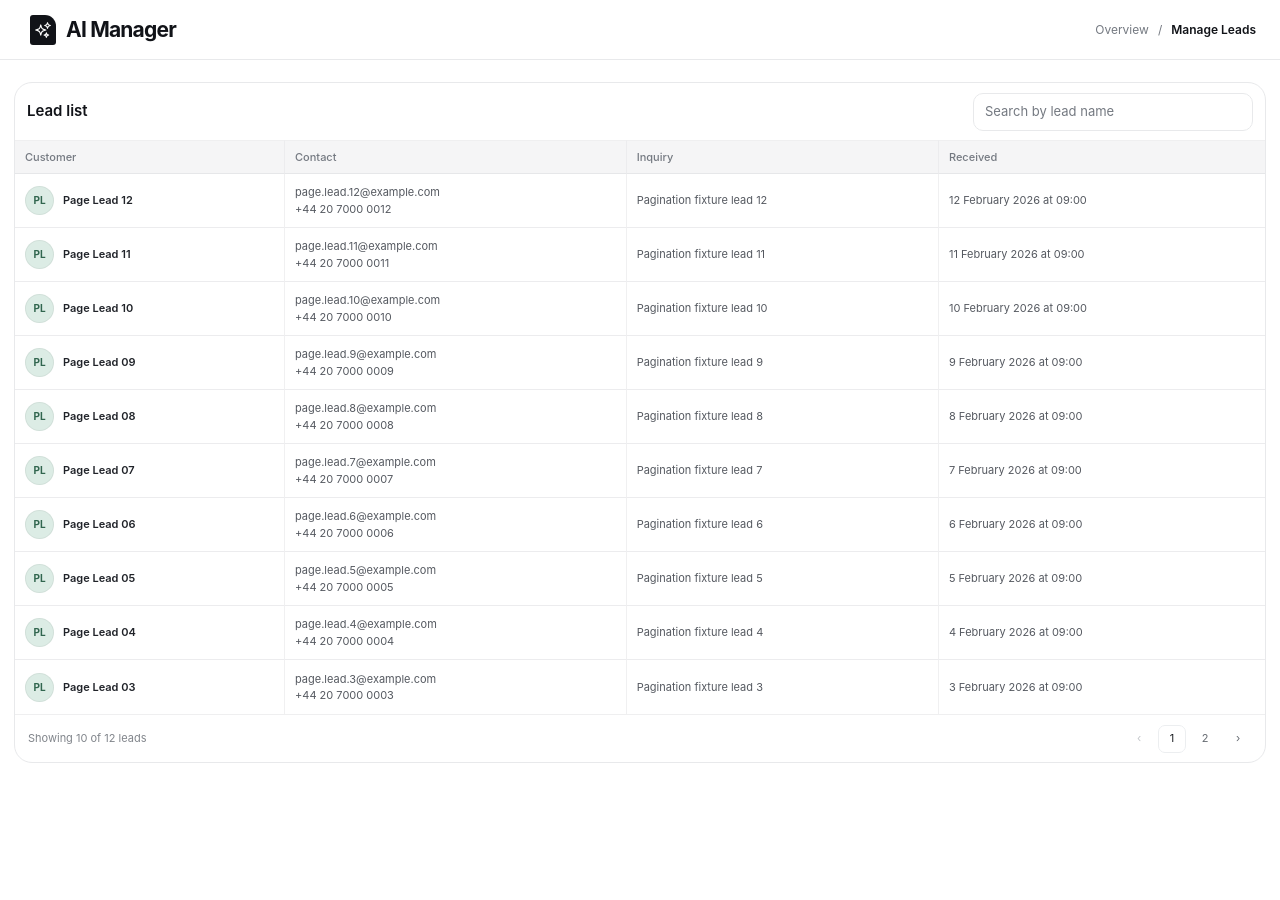
Test case: lead browse and read workflow › paginates the lead table
Expected: the text "Showing 10 of 12 leads" is shown, [28, 730, 146, 747]
Expected: the link "PL Page Lead 12" is shown, [25, 186, 133, 215]
Click the button "2": point(1205, 738) [1191, 724, 1219, 752]
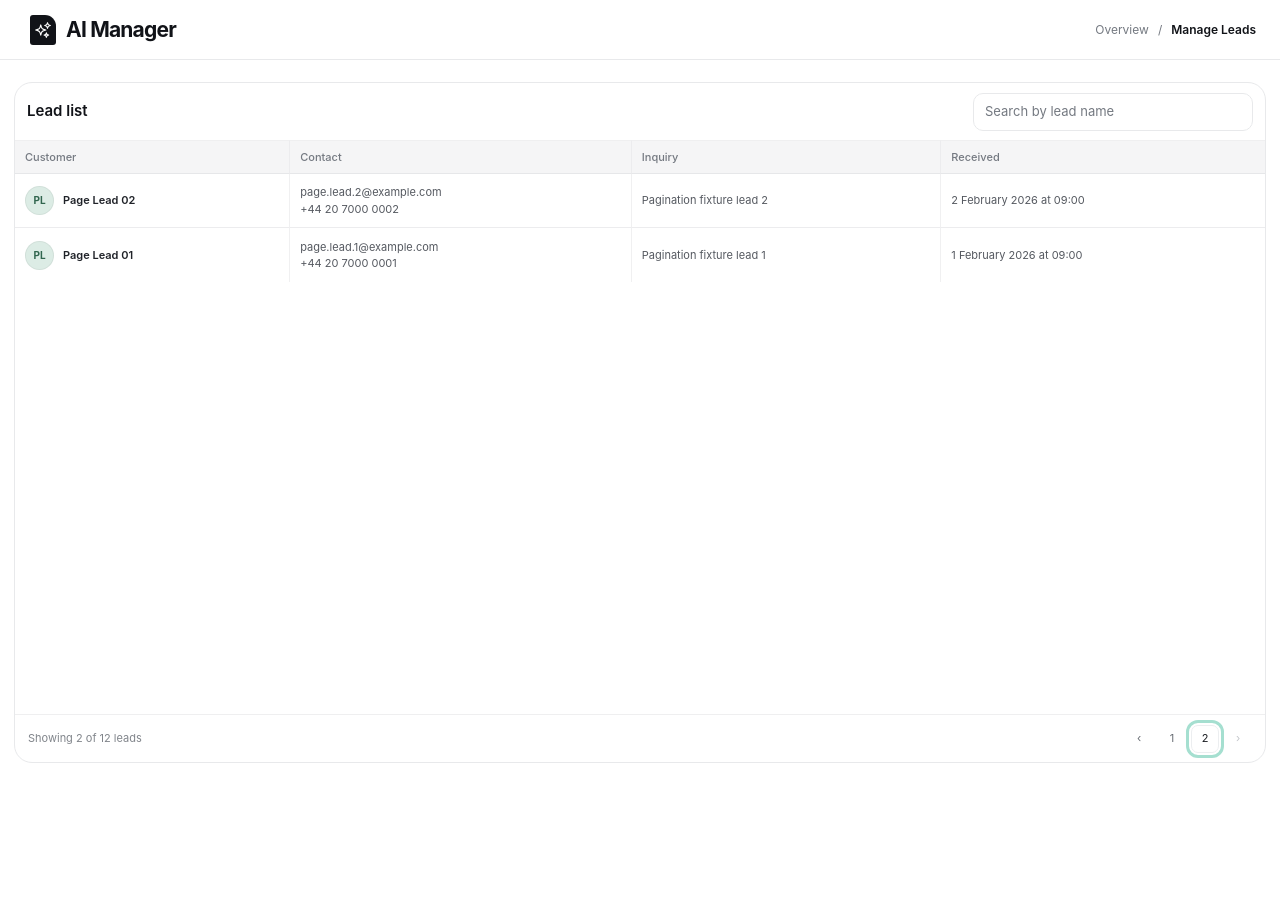
Now the text "Showing 2 of 12 leads" is shown, box [28, 730, 142, 747]
Now the link "PL Page Lead 02" is shown, box [25, 186, 135, 215]
Now the link "PL Page Lead 01" is shown, box [25, 240, 133, 270]
Click the button named "Previous page": point(1139, 738) [1125, 724, 1153, 752]
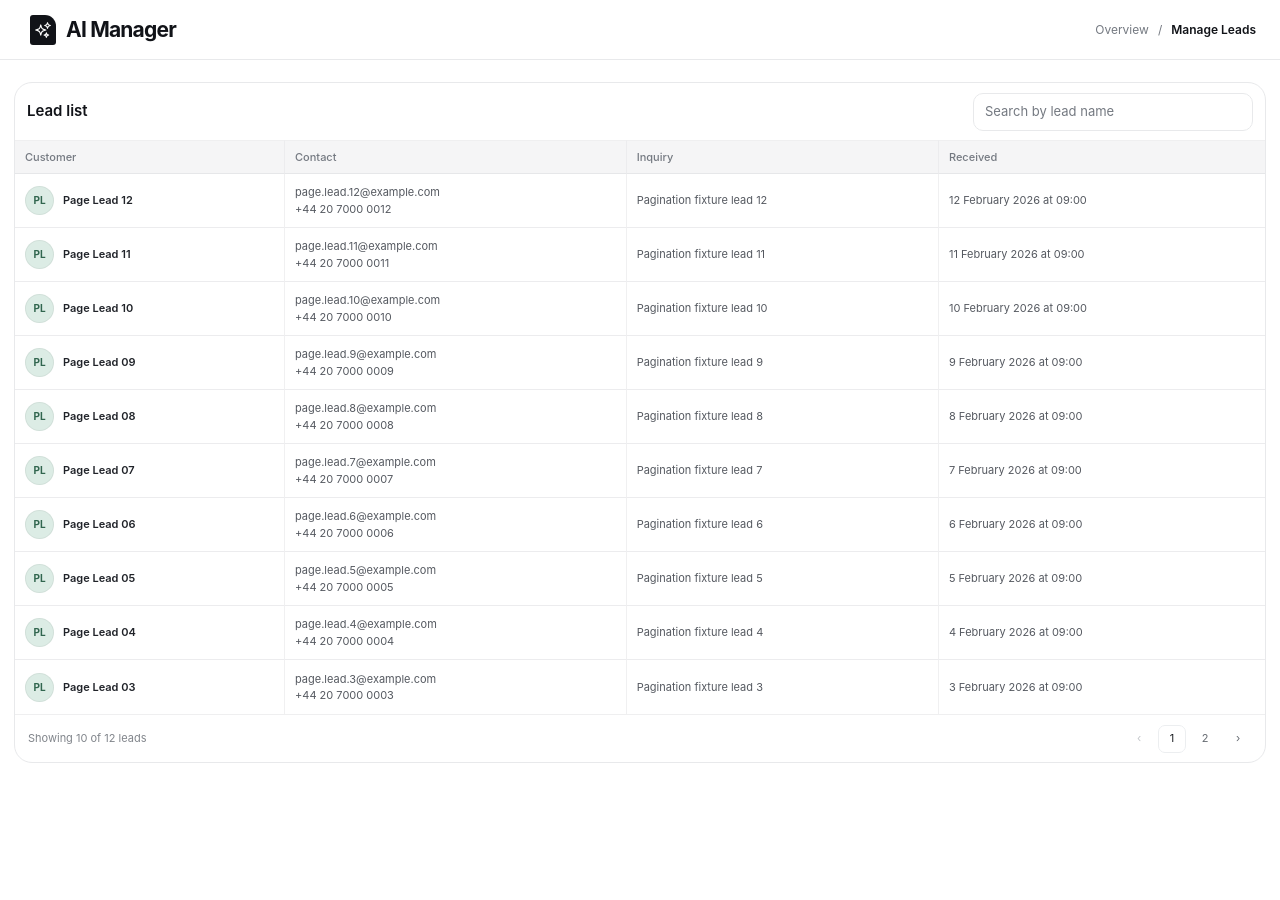
Now the text "Showing 10 of 12 leads" is shown, box [28, 730, 146, 747]
Now the link "PL Page Lead 12" is shown, box [25, 186, 133, 215]
